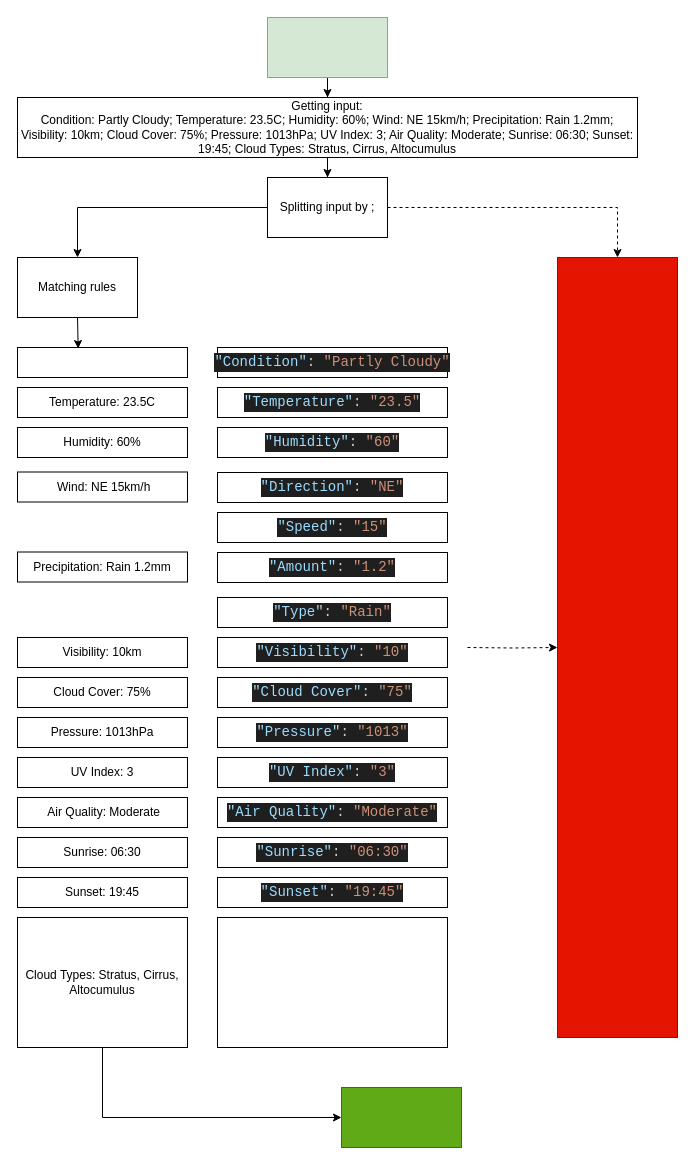
Image size: 695x1165. Some labels were removed from this diagram. Each missing label, with the centre of its shape:
"Cloud Types" : [ "Stratus" , "Cirrus" , "Altocumulus" ]: pixel 332 982
Catch error: pixel 617 647
Condition: Partly Cloudy: pixel 102 362
Forming all matched rules into JSON: pixel 401 1117
Start: pixel 327 47
